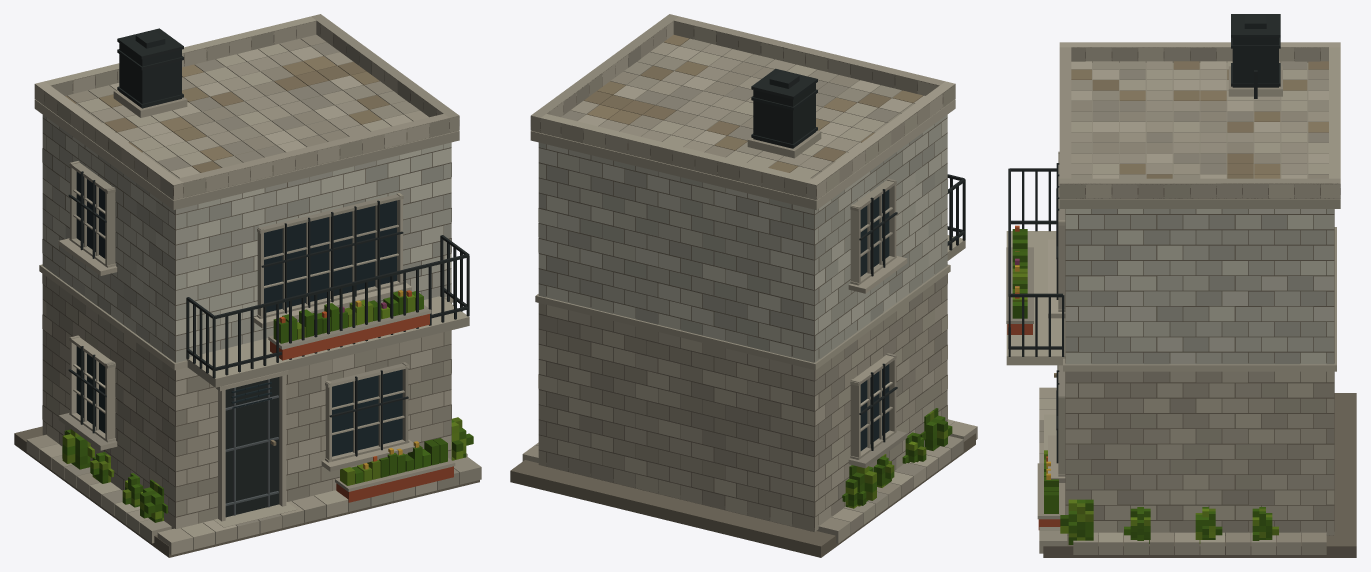
The model's file is SM_Mapa_075.fbx.
3 views of the same model, side by side, from view 1: azimuth 30°, elevation 25°; view 2: azimuth 150°, elevation 25°; view 3: azimuth 270°, elevation 25° (orthographic).
Visible parts, largest first — view 1: SM_Mapa_075; view 2: SM_Mapa_075; view 3: SM_Mapa_075.
Part boxes in pixels (<box>): SM_Mapa_075: <box>14,14,481,557</box>; SM_Mapa_075: <box>510,14,977,557</box>; SM_Mapa_075: <box>1006,14,1356,557</box>.
Bounding box in the file's own units: 8 × 7.51 × 10.12.
